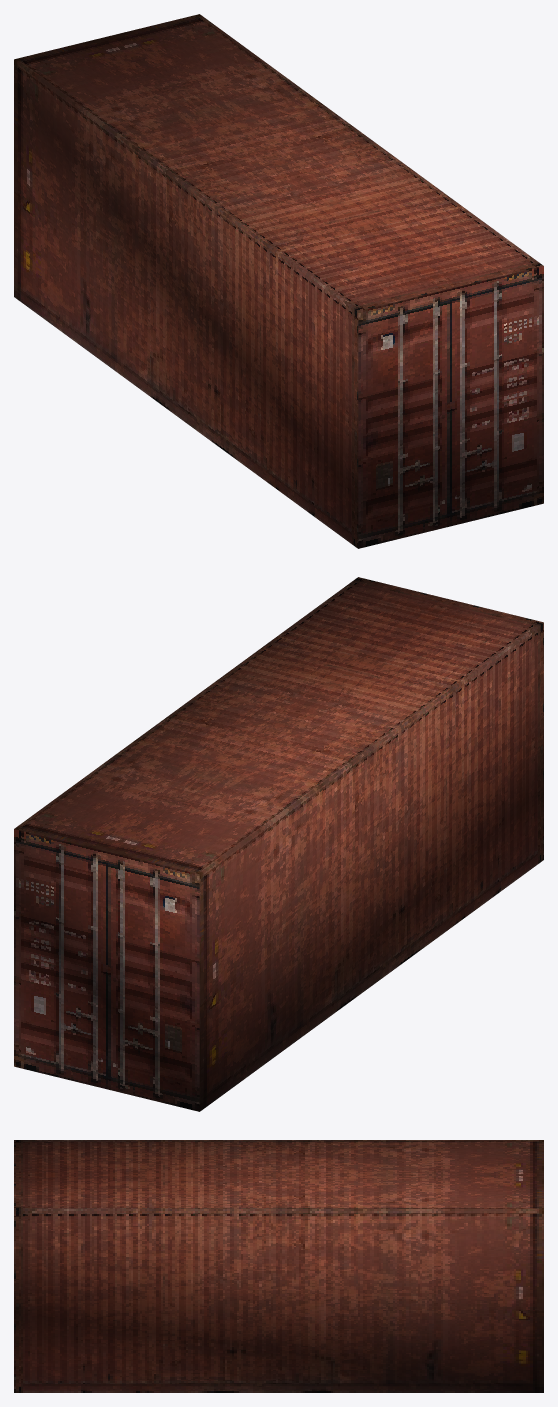
File: cargo_container.glb
The picture shows the model from 3 angles, top to bottom: view 1: azimuth 30°, elevation 25°; view 2: azimuth 150°, elevation 25°; view 3: azimuth 270°, elevation 25°; orthographic projection. The views are drawn at different scales.
Visible parts, largest first — view 1: CargoContainer; view 2: CargoContainer; view 3: CargoContainer.
Boxes of the visible parts, x1,y1,x2,y2 form: CargoContainer: [14, 14, 543, 548]; CargoContainer: [14, 577, 543, 1111]; CargoContainer: [14, 1140, 543, 1392].
Bounding box in the file's own units: 2.03 × 2.48 × 6.5.
1 material, 1 textured.
